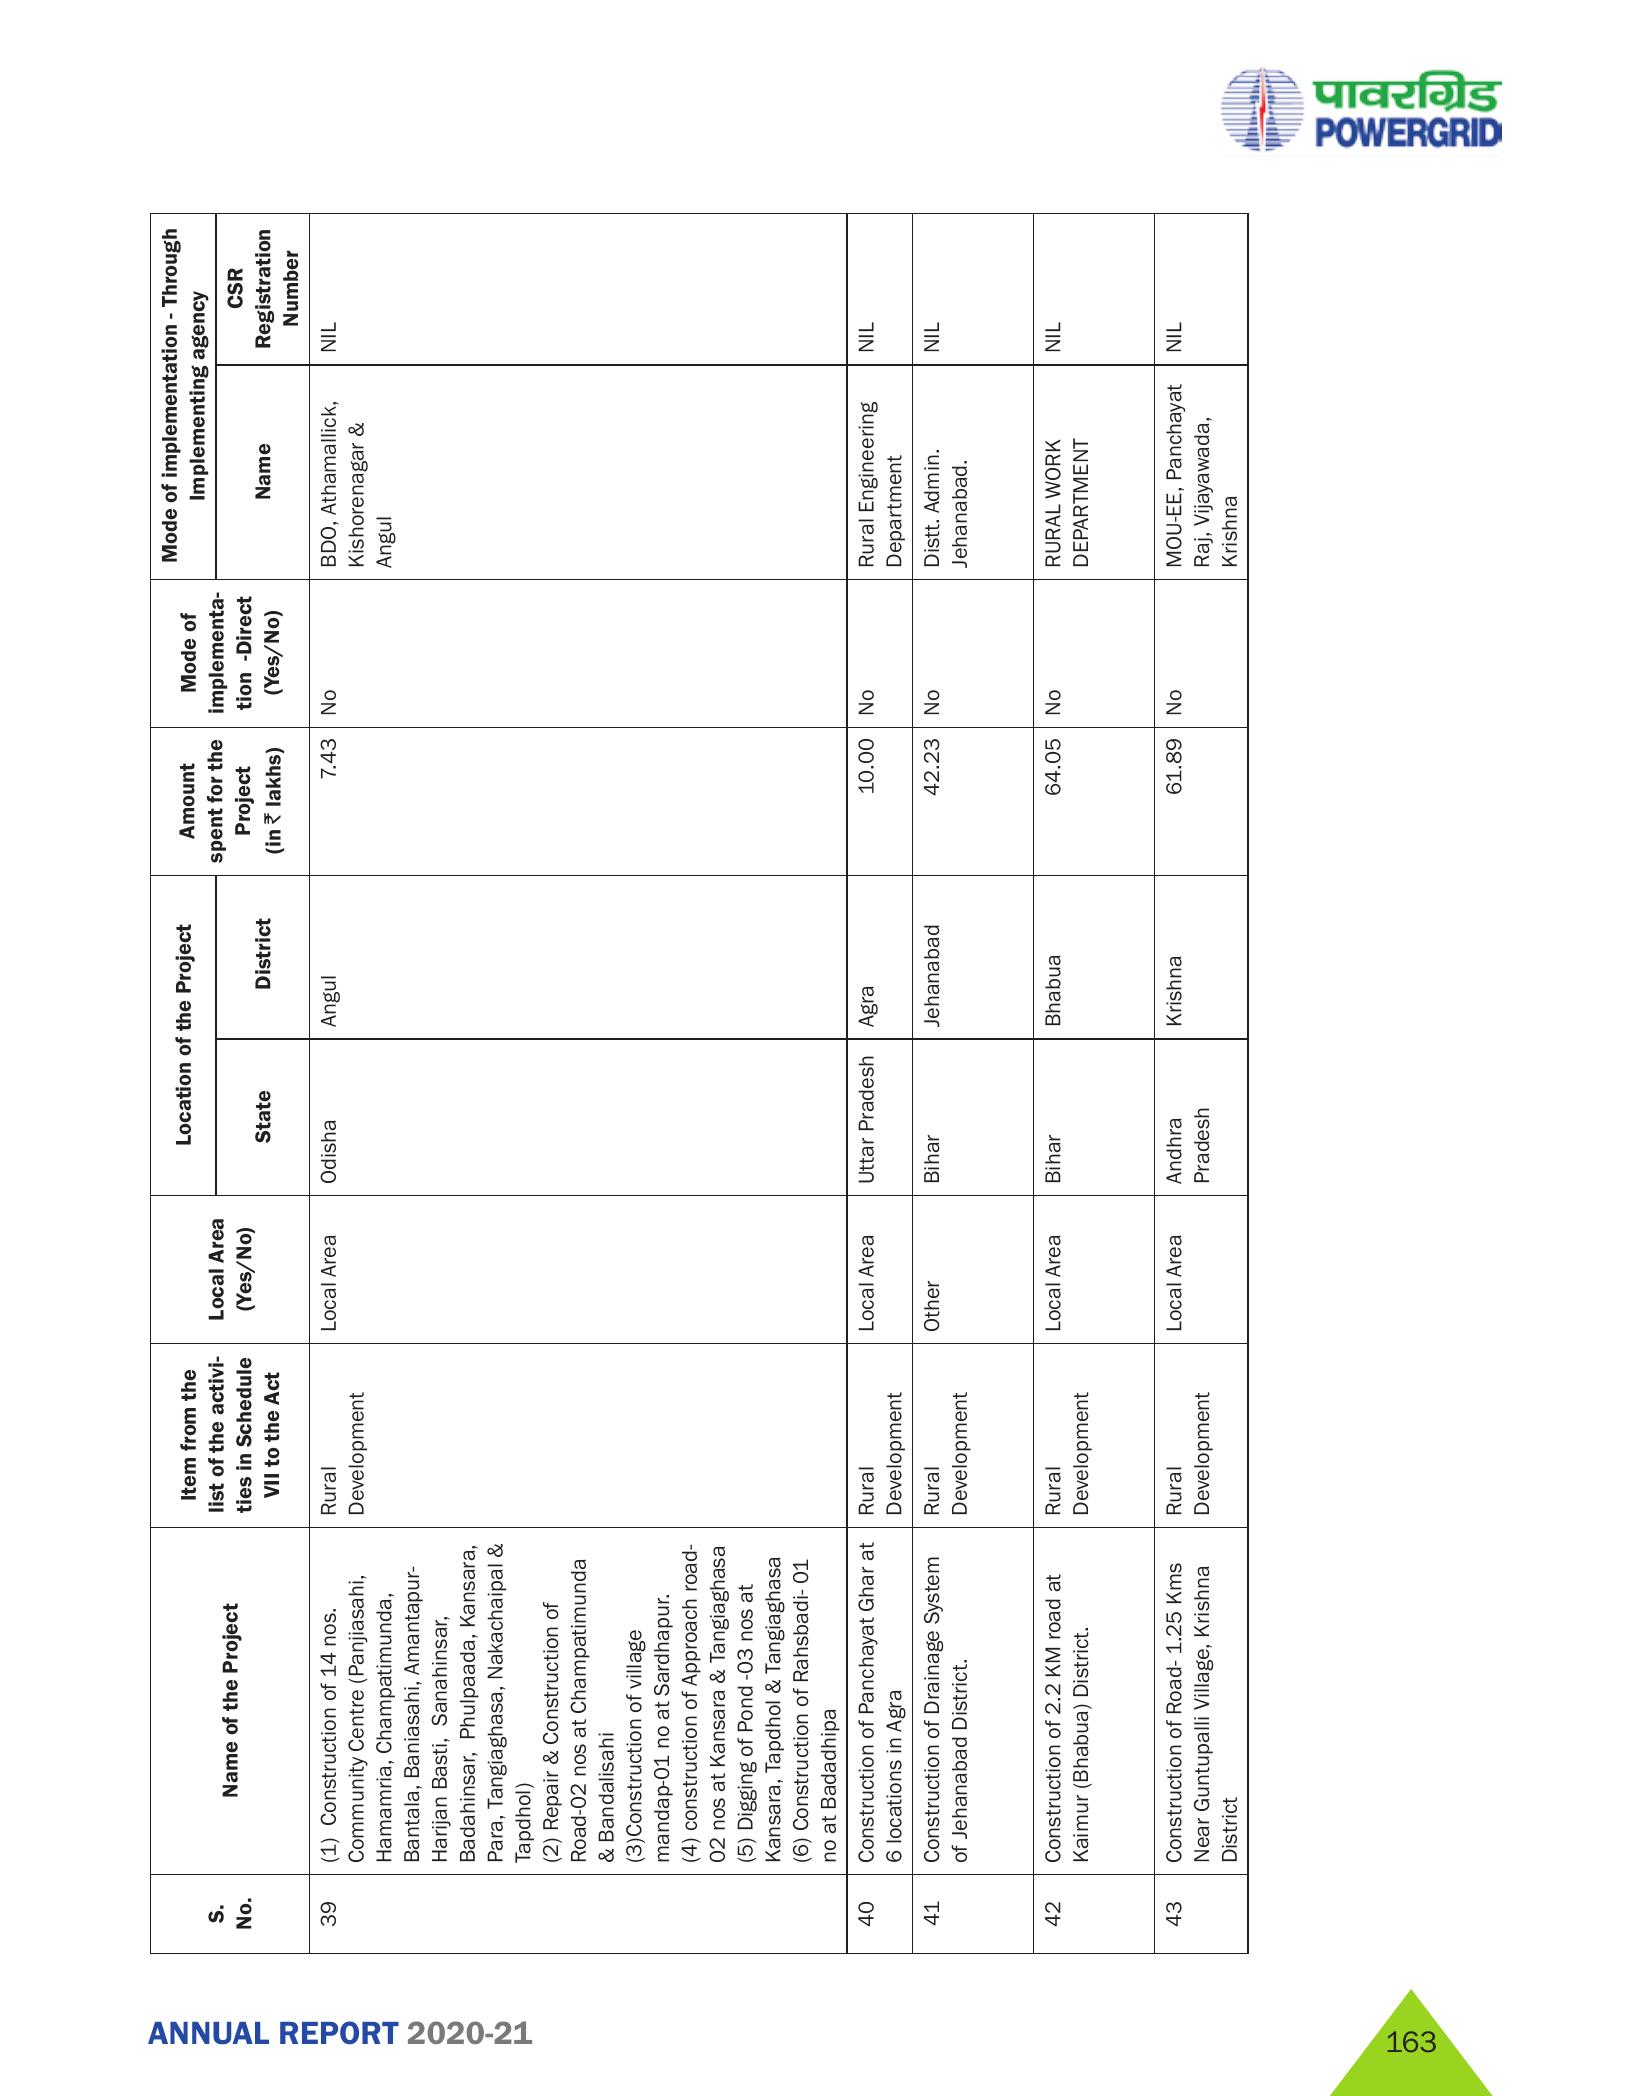Footer: (0, 1974, 1650, 2096)
Header: (0, 0, 1650, 163)
Table: (105, 201, 1306, 1965)
